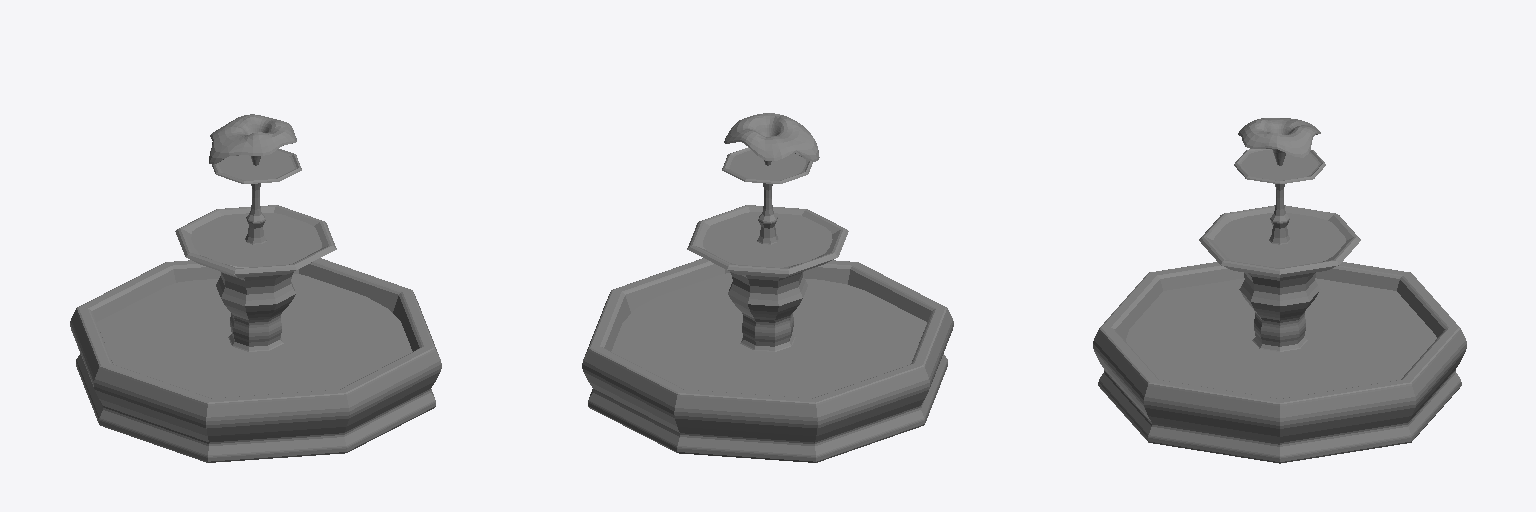
File: FuenteParque.obj
3 renders of one model, left to right at view 1: azimuth 30°, elevation 25°; view 2: azimuth 150°, elevation 25°; view 3: azimuth 270°, elevation 25°, orthographic.
Visible parts, largest first — view 1: Cube, Cylinder; view 2: Cube, Cylinder; view 3: Cube, Cylinder.
Boxes of the visible parts, x1,y1,x2,y2 form: Cube: [70, 149, 441, 462]; Cylinder: [97, 114, 412, 397]; Cube: [582, 147, 953, 462]; Cylinder: [611, 113, 926, 397]; Cube: [1093, 149, 1466, 463]; Cylinder: [1126, 118, 1436, 398].
Size of the model in its own units: 4.32 by 3.36 by 4.32.